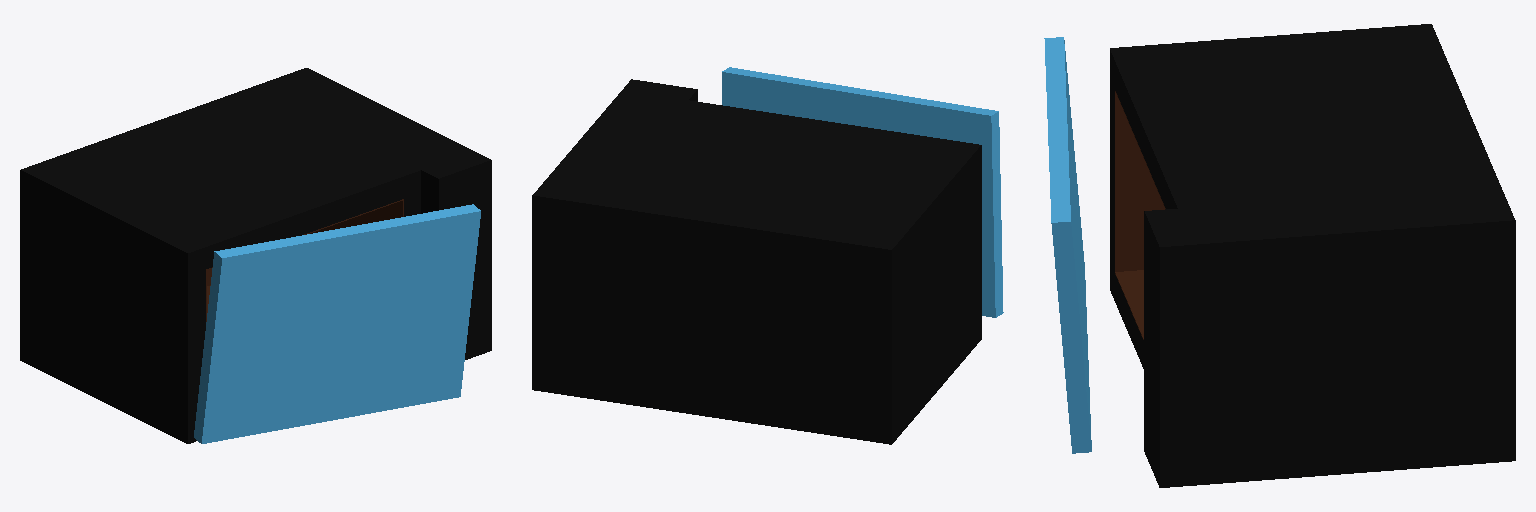
robot.urdf — microwave_lidar:
<?xml version='1.0' encoding='utf-8'?>
<!-- Video2URDF model "microwave_lidar", measured from a video (https://github.com/SungHyunC/video2urdf).
     Mesh and texture paths are relative to this file (meshes/...): this file alone won't load;
     unzip model.zip (the viewer's "Download model + meshes") and load it from there.
     Units: metres, kilograms, radians. Fix the root link "base", its origin 0.1379 m above the floor.
     Collisions are the measured geometry; visuals may be the design, video texture or SAM 3D mesh.
     PyBullet: loadURDF(path, useFixedBase=True, flags=URDF_USE_INERTIA_FROM_FILE).
       PyBullet doesn't apply <dynamics friction>: set VELOCITY_CONTROL, targetVelocity=0,
       force=friction on each joint. MuJoCo 3.2.5+: simulate model.xml, which excludes contacts
       between parts joined by a joint (they overlap there); MuJoCo's URDF import can't.
     The <mujoco> element only keeps mesh paths for MuJoCo's URDF import; other parsers ignore it.
     ROS: mesh paths must become package://<your_package>/meshes/... for RViz and Gazebo. -->
<robot name="microwave_lidar">
  <mujoco>
    <compiler strippath="false" />
  </mujoco>
  <link name="base">
    <inertial>
      <origin xyz="0.245817 0.269804 -0.00368882" rpy="-1.73617 -1.56566 -1.39725" />
      <mass value="10.2" />
      <inertia ixx="0.364663" ixy="0" ixz="0" iyy="0.337362" iyz="0" izz="0.193732" />
    </inertial>
    <visual name="base_0">
      <geometry>
        <mesh filename="meshes/base_tex.obj" />
      </geometry>
    </visual>
    <collision>
      <geometry>
        <mesh filename="meshes/base.obj" />
      </geometry>
    </collision>
    <visual name="completed_side_high_u">
      <origin xyz="0.397838 0.270853 -0.00361144" rpy="0 0 0.178118" />
      <geometry>
        <box size="0.0880489 0.365 0.268504" />
      </geometry>
      <material name="completed_side_high_u_color">
        <color rgba="0.0823529 0.0823529 0.0823529 1" />
      </material>
    </visual>
    <collision name="completed_side_high_u">
      <origin xyz="0.397838 0.270853 -0.00361144" rpy="0 0 0.178118" />
      <geometry>
        <box size="0.0880489 0.365 0.268504" />
      </geometry>
    </collision>
    <visual name="completed_cavity_top_wall">
      <origin xyz="0.159951 0.245485 0.114764" rpy="0 0 0.178118" />
      <geometry>
        <box size="0.389188 0.330638 0.0317518" />
      </geometry>
      <material name="completed_cavity_top_wall_color">
        <color rgba="0.0823529 0.0823529 0.0823529 1" />
      </material>
    </visual>
    <collision name="completed_cavity_top_wall">
      <origin xyz="0.159951 0.245485 0.114764" rpy="0 0 0.178118" />
      <geometry>
        <box size="0.389188 0.330638 0.0317518" />
      </geometry>
    </collision>
    <visual name="completed_cavity_bottom_wall">
      <origin xyz="0.159951 0.245485 -0.121987" rpy="0 0 0.178118" />
      <geometry>
        <box size="0.389188 0.330638 0.0317518" />
      </geometry>
      <material name="completed_cavity_bottom_wall_color">
        <color rgba="0.0823529 0.0823529 0.0823529 1" />
      </material>
    </visual>
    <collision name="completed_cavity_bottom_wall">
      <origin xyz="0.159951 0.245485 -0.121987" rpy="0 0 0.178118" />
      <geometry>
        <box size="0.389188 0.330638 0.0317518" />
      </geometry>
    </collision>
    <visual name="completed_cavity_wall_low_u">
      <origin xyz="-0.0170015 0.213629 -0.00361144" rpy="0 0 0.178118" />
      <geometry>
        <box size="0.029594 0.330638 0.205" />
      </geometry>
      <material name="completed_cavity_wall_low_u_color">
        <color rgba="0.0823529 0.0823529 0.0823529 1" />
      </material>
    </visual>
    <collision name="completed_cavity_wall_low_u">
      <origin xyz="-0.0170015 0.213629 -0.00361144" rpy="0 0 0.178118" />
      <geometry>
        <box size="0.029594 0.330638 0.205" />
      </geometry>
    </collision>
    <visual name="completed_cavity_wall_high_u">
      <origin xyz="0.336903 0.277341 -0.00361144" rpy="0 0 0.178118" />
      <geometry>
        <box size="0.029594 0.330638 0.205" />
      </geometry>
      <material name="completed_cavity_wall_high_u_color">
        <color rgba="0.0823529 0.0823529 0.0823529 1" />
      </material>
    </visual>
    <collision name="completed_cavity_wall_high_u">
      <origin xyz="0.336903 0.277341 -0.00361144" rpy="0 0 0.178118" />
      <geometry>
        <box size="0.029594 0.330638 0.205" />
      </geometry>
    </collision>
    <visual name="completed_cavity_back_wall">
      <origin xyz="0.133821 0.390628 -0.00361144" rpy="0 0 0.178118" />
      <geometry>
        <box size="0.33 0.0356835 0.205" />
      </geometry>
      <material name="completed_cavity_back_wall_color">
        <color rgba="0.0823529 0.0823529 0.0823529 1" />
      </material>
    </visual>
    <collision name="completed_cavity_back_wall">
      <origin xyz="0.133821 0.390628 -0.00361144" rpy="0 0 0.178118" />
      <geometry>
        <box size="0.33 0.0356835 0.205" />
      </geometry>
    </collision>
    <visual name="completed_liner_top">
      <origin xyz="0.163112 0.227925 0.0981386" rpy="0 0 0.178118" />
      <geometry>
        <box size="0.33 0.294954 0.0015" />
      </geometry>
      <material name="completed_liner_top_color">
        <color rgba="0.286275 0.164706 0.101961 1" />
      </material>
    </visual>
    <visual name="completed_liner_bottom">
      <origin xyz="0.163112 0.227925 -0.105361" rpy="0 0 0.178118" />
      <geometry>
        <box size="0.33 0.294954 0.0015" />
      </geometry>
      <material name="completed_liner_bottom_color">
        <color rgba="0.286275 0.164706 0.101961 1" />
      </material>
    </visual>
    <visual name="completed_liner_low_u">
      <origin xyz="0.0014607 0.198824 -0.00361144" rpy="0 0 0.178118" />
      <geometry>
        <box size="0.0015 0.294954 0.205" />
      </geometry>
      <material name="completed_liner_low_u_color">
        <color rgba="0.286275 0.164706 0.101961 1" />
      </material>
    </visual>
    <visual name="completed_liner_high_u">
      <origin xyz="0.324763 0.257027 -0.00361144" rpy="0 0 0.178118" />
      <geometry>
        <box size="0.0015 0.294954 0.205" />
      </geometry>
      <material name="completed_liner_high_u_color">
        <color rgba="0.286275 0.164706 0.101961 1" />
      </material>
    </visual>
    <visual name="completed_liner_back">
      <origin xyz="0.137115 0.372331 -0.00361144" rpy="0 0 0.178118" />
      <geometry>
        <box size="0.33 0.0015 0.205" />
      </geometry>
      <material name="completed_liner_back_color">
        <color rgba="0.286275 0.164706 0.101961 1" />
      </material>
    </visual>
  </link>
  <link name="lid">
    <inertial>
      <origin xyz="0.193492 0.0065435 0.002285" rpy="1.63883 -0.0797836 1.5835" />
      <mass value="1.8" />
      <inertia ixx="0.0330592" ixy="0" ixz="0" iyy="0.0224047" iyz="0" izz="0.0107745" />
    </inertial>
    <visual name="lid_0">
      <geometry>
        <mesh filename="meshes/lid_tex.obj" />
      </geometry>
    </visual>
    <collision>
      <geometry>
        <mesh filename="meshes/lid.obj" />
      </geometry>
    </collision>
  </link>
  <joint name="lid_joint" type="revolute">
    <parent link="base" />
    <child link="lid" />
    <origin xyz="0.00000 0.00000 0.00000" rpy="0 0 0" />
    <axis xyz="0.06898 -0.07864 0.99451" />
    <limit lower="-0.7336" upper="0.2131" effort="10" velocity="2" />
    <dynamics damping="0.02" friction="0.394419" />
  </joint>
</robot>

--- Render facts (derived) ---
3 views of the same robot in one strip: view 1: azimuth 30°, elevation 25°; view 2: azimuth 150°, elevation 25°; view 3: azimuth 270°, elevation 25° (orthographic).
Robot: microwave_lidar — 2 links, 1 joints (1 revolute); root link base; default pose: every joint at zero.
Links seen in each view (by area): view 1: base, lid; view 2: base, lid; view 3: base, lid.
Boxes of the visible links, <box> form: base: <box>20,68,491,443</box>; lid: <box>194,204,480,443</box>; base: <box>532,79,981,444</box>; lid: <box>722,67,1003,317</box>; base: <box>1110,24,1515,487</box>; lid: <box>1044,37,1091,453</box>.
Size in the robot's own frame: 0.5344 by 0.4757 by 0.2935 metres.
Meshes: 2 distinct files referenced, 2 mesh visuals loaded (2 OBJ).
